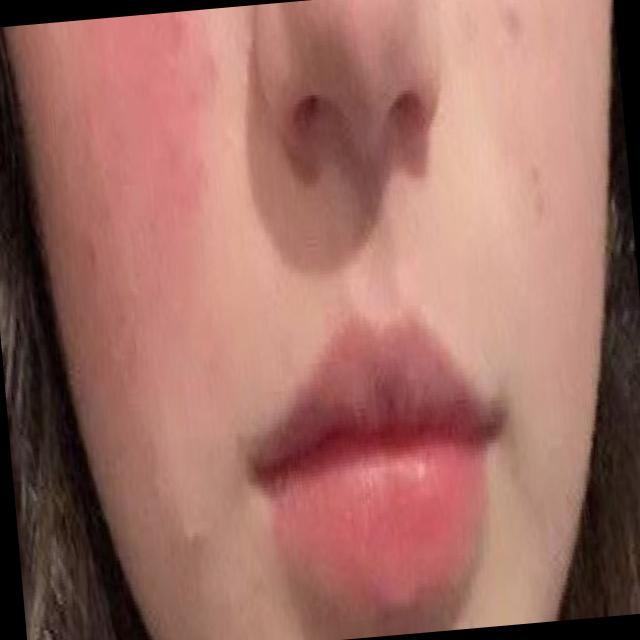redness: (74, 12, 223, 379)
